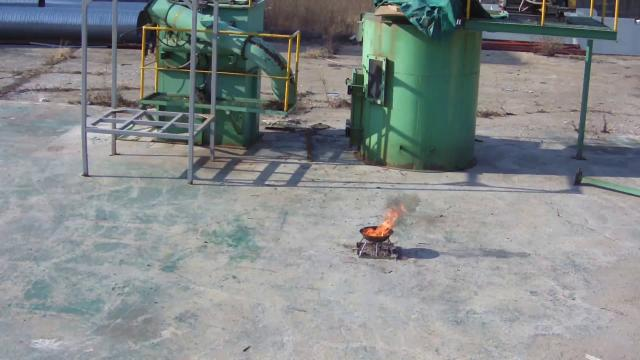fire: (362, 214, 398, 238)
smoke: (382, 191, 420, 227)
